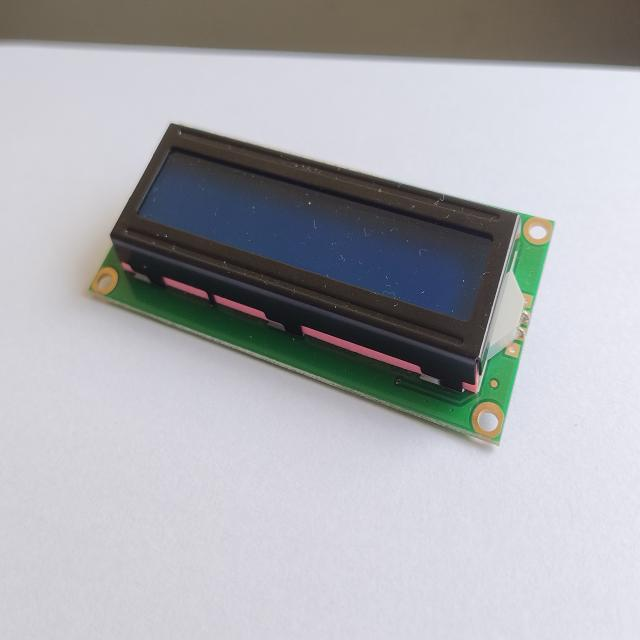lcd: (66, 89, 567, 480)
